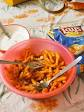kurkure: (17, 52, 64, 89)
plastic: (52, 27, 84, 42)
